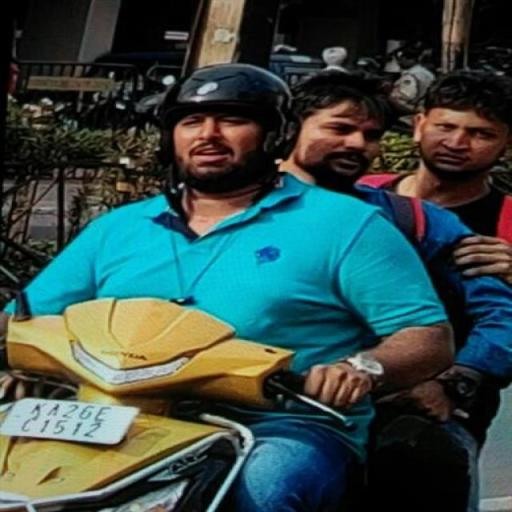tripple riding: (0, 54, 512, 498)
